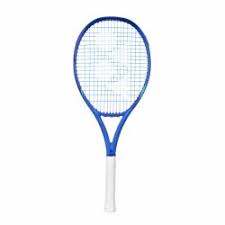tennis racket: (72, 16, 153, 215)
